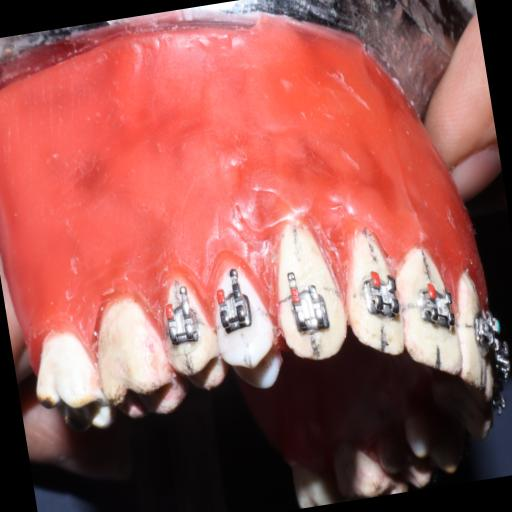incorrect_brace: (280, 266, 331, 336)
